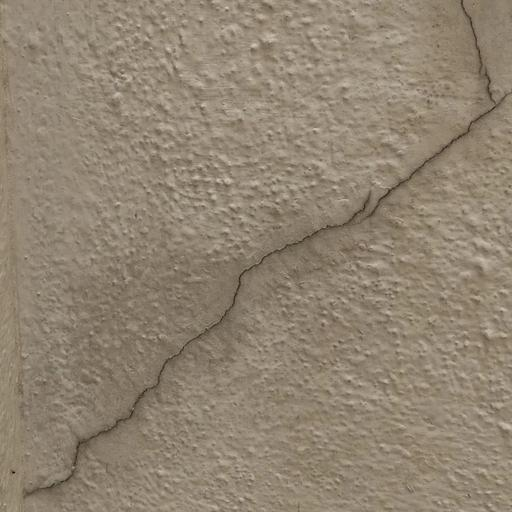minor_crack: (15, 0, 512, 512)
